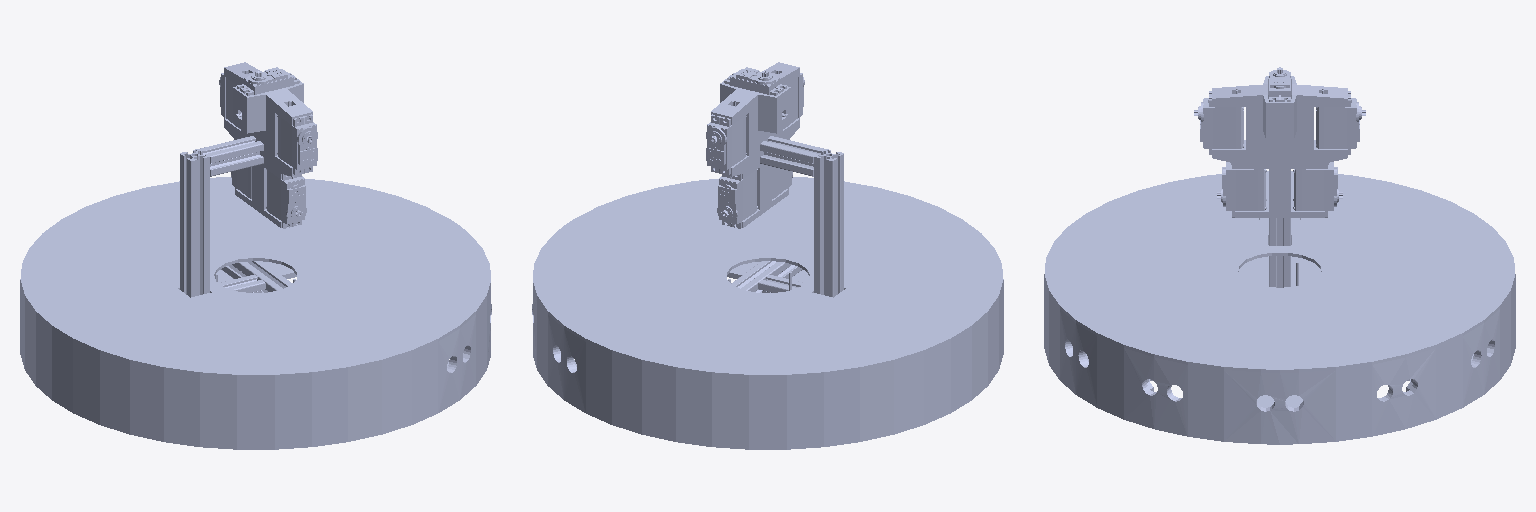
URDF robot description (assem_urdf):
<?xml version="1.0" encoding="utf-8"?>
<!-- This URDF was automatically created by SolidWorks to URDF Exporter! Originally created by [author] ([email redacted]) 
     Commit Version: 1.6.0-4-g7f85cfe  Build Version: 1.6.7995.38578
     For more information, please see http://wiki.ros.org/sw_urdf_exporter -->
<robot
  name="assem_urdf">
  <link
    name="base_link">
    <inertial>
      <origin
        xyz="0.0099132 0.00030561 0.03955"
        rpy="0 0 0" />
      <mass
        value="5" />
      <inertia
        ixx="0.0013702"
        ixy="9.6491E-08"
        ixz="1.1654E-07"
        iyy="0.0013447"
        iyz="3.7844E-07"
        izz="0.0026486" />
    </inertial>
    <visual>
      <origin
        xyz="0 0 0"
        rpy="0 0 0" />
      <geometry>
        <mesh
          filename="package://assem_urdf/meshes/base_link.STL" />
      </geometry>
      <material
        name="">
        <color
          rgba="0.79216 0.81961 0.93333 1" />
      </material>
    </visual>
    <collision>
      <origin
        xyz="0 0 0"
        rpy="0 0 0" />
      <geometry>
        <mesh
          filename="package://assem_urdf/meshes/base_link.STL" />
      </geometry>
    </collision>
  </link>
  <link
    name="wheel_right_link">
    <inertial>
      <origin
        xyz="-6.9389E-18 -3.4694E-18 -1.3878E-17"
        rpy="0 0 0" />
      <mass
        value="0.1" />
      <inertia
        ixx="2.8744E-05"
        ixy="-7.5972E-22"
        ixz="2.3823E-23"
        iyy="2.8744E-05"
        iyz="-2.9779E-24"
        izz="4.7183E-05" />
    </inertial>
    <visual>
      <origin
        xyz="0 0 0"
        rpy="0 0 0" />
      <geometry>
        <mesh
          filename="package://assem_urdf/meshes/wheel_right_link.STL" />
      </geometry>
      <material
        name="">
        <color
          rgba="0.79216 0.81961 0.93333 1" />
      </material>
    </visual>
    <collision>
      <origin
        xyz="0 0 0"
        rpy="0 0 0" />
      <geometry>
        <mesh
          filename="package://assem_urdf/meshes/wheel_right_link.STL" />
      </geometry>
    </collision>
  </link>
  <joint
    name="wheel_right_joint"
    type="continuous">
    <origin
      xyz="-0.036511 -0.099997 0.0198"
      rpy="-1.5708 0 0" />
    <parent
      link="base_link" />
    <child
      link="wheel_right_link" />
    <axis
      xyz="0 0 1" />
  </joint>
  <link
    name="wheel_left_link">
    <inertial>
      <origin
        xyz="-6.9389E-18 -3.4694E-18 1.3878E-17"
        rpy="0 0 0" />
      <mass
        value="0.1" />
      <inertia
        ixx="2.8744E-05"
        ixy="-7.5972E-22"
        ixz="-2.3823E-23"
        iyy="2.8744E-05"
        iyz="2.9779E-24"
        izz="4.7183E-05" />
    </inertial>
    <visual>
      <origin
        xyz="0 0 0"
        rpy="0 0 0" />
      <geometry>
        <mesh
          filename="package://assem_urdf/meshes/wheel_left_link.STL" />
      </geometry>
      <material
        name="">
        <color
          rgba="0.79216 0.81961 0.93333 1" />
      </material>
    </visual>
    <collision>
      <origin
        xyz="0 0 0"
        rpy="0 0 0" />
      <geometry>
        <mesh
          filename="package://assem_urdf/meshes/wheel_left_link.STL" />
      </geometry>
    </collision>
  </link>
  <joint
    name="wheel_left_joint"
    type="continuous">
    <origin
      xyz="-0.036511 0.1 0.0198"
      rpy="-1.5708 0 0" />
    <parent
      link="base_link" />
    <child
      link="wheel_left_link" />
    <axis
      xyz="0 0 -1" />
  </joint>
  <link
    name="camera_link">
    <inertial>
      <origin
        xyz="-0.015468 0.0015228 -0.00023477"
        rpy="0 0 0" />
      <mass
        value="0.1" />
      <inertia
        ixx="1.3863E-05"
        ixy="-6.9499E-09"
        ixz="-1.2051E-08"
        iyy="2.7923E-06"
        iyz="-1.0419E-08"
        izz="1.4247E-05" />
    </inertial>
    <visual>
      <origin
        xyz="0 0 0"
        rpy="0 0 0" />
      <geometry>
        <mesh
          filename="package://assem_urdf/meshes/camera_link.STL" />
      </geometry>
      <material
        name="">
        <color
          rgba="0.75294 0.75294 0.75294 1" />
      </material>
    </visual>
    <collision>
      <origin
        xyz="0 0 0"
        rpy="0 0 0" />
      <geometry>
        <mesh
          filename="package://assem_urdf/meshes/camera_link.STL" />
      </geometry>
    </collision>
  </link>
  <joint
    name="camera_joint"
    type="fixed">
    <origin
      xyz="0.12795 -0.005377 0.075802"
      rpy="0 0 0" />
    <parent
      link="base_link" />
    <child
      link="camera_link" />
    <axis
      xyz="0 0 0" />
  </joint>
  <link
    name="lidar_link">
    <inertial>
      <origin
        xyz="0 0 0"
        rpy="0 0 0" />
      <mass
        value="0.1" />
      <inertia
        ixx="0"
        ixy="0"
        ixz="0"
        iyy="0"
        iyz="0"
        izz="0" />
    </inertial>
    <visual>
      <origin
        xyz="0 0 0"
        rpy="0 0 0" />
      <geometry>
        <mesh
          filename="package://assem_urdf/meshes/lidar_link.STL" />
      </geometry>
      <material
        name="">
        <color
          rgba="1 1 1 1" />
      </material>
    </visual>
    <collision>
      <origin
        xyz="0 0 0"
        rpy="0 0 0" />
      <geometry>
        <mesh
          filename="package://assem_urdf/meshes/lidar_link.STL" />
      </geometry>
    </collision>
  </link>
  <joint
    name="lidar_joint"
    type="fixed">
    <origin
      xyz="-0.0015108 0 0.166"
      rpy="0 0 0" />
    <parent
      link="base_link" />
    <child
      link="lidar_link" />
    <axis
      xyz="0 0 0" />
  </joint>
</robot>

--- Render facts (derived) ---
Views: 3 orthographic renders of the robot side by side, from view 1: azimuth 30°, elevation 25°; view 2: azimuth 150°, elevation 25°; view 3: azimuth 270°, elevation 25°.
Robot: assem_urdf — 5 links, 4 joints (2 continuous, 2 fixed); root link base_link; default pose: all joints at 0.
Links seen in each view (by area): view 1: base_link; view 2: base_link; view 3: base_link.
Link boxes in pixels (x1,y1,x2,y2): base_link: (20,62,491,449); base_link: (532,62,1003,449); base_link: (1044,67,1515,444).
Size in the robot's own frame: 0.416 by 0.4157 by 0.2705 metres.
Meshes: 5 distinct files referenced, 1 mesh visuals loaded (1 binary STL); not drawn: 4 (reference not matched to a file when rendering).